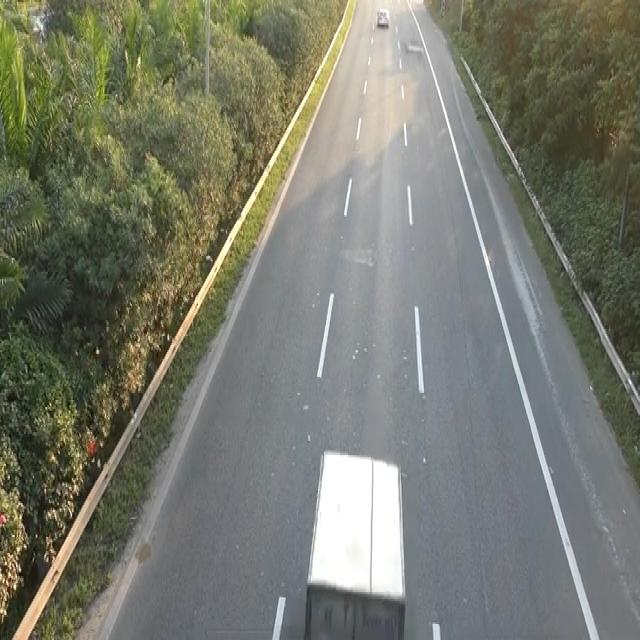bus: (375, 6, 390, 28)
minivan: (301, 442, 409, 634)
